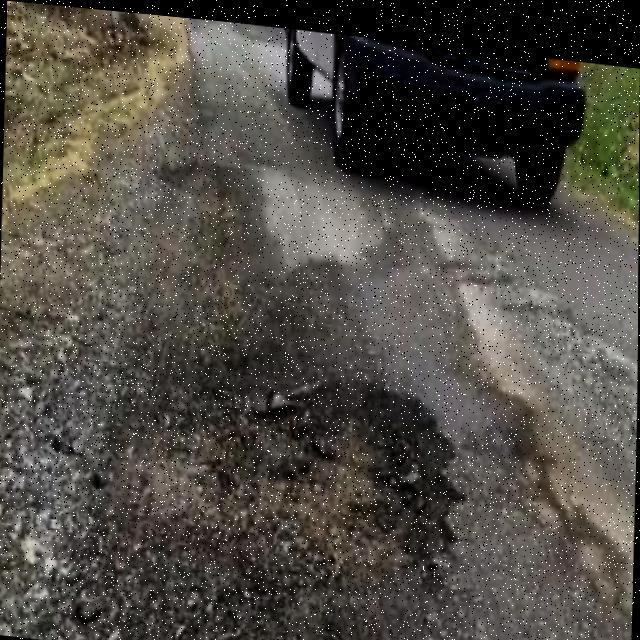pothole: (236, 368, 444, 560)
